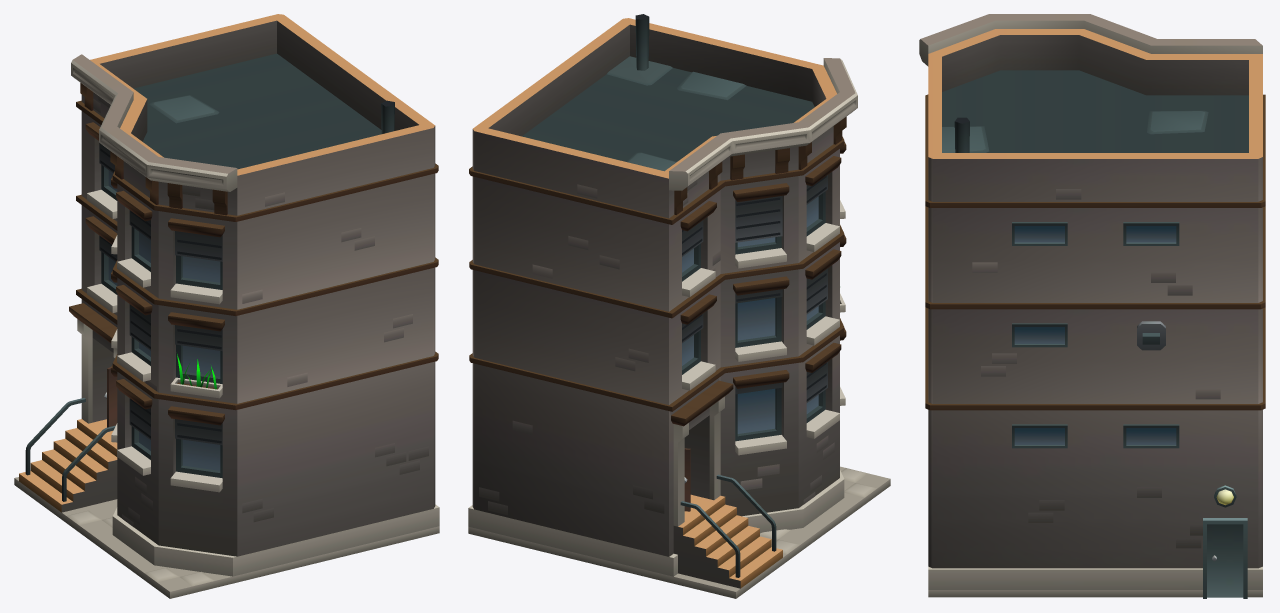
File: Building_3B.fbx
The picture shows the model from 3 angles, left to right: view 1: azimuth 30°, elevation 25°; view 2: azimuth 150°, elevation 25°; view 3: azimuth 270°, elevation 25°; orthographic projection. The views are drawn at different scales.
Visible parts, largest first — view 1: Building_3B; view 2: Building_3B; view 3: Building_3B.
Part boxes in pixels (bbox=[...]): Building_3B: bbox=[14, 14, 439, 598]; Building_3B: bbox=[468, 14, 890, 598]; Building_3B: bbox=[919, 14, 1265, 598].
Bounding box in the file's own units: 378 × 553 × 379.
